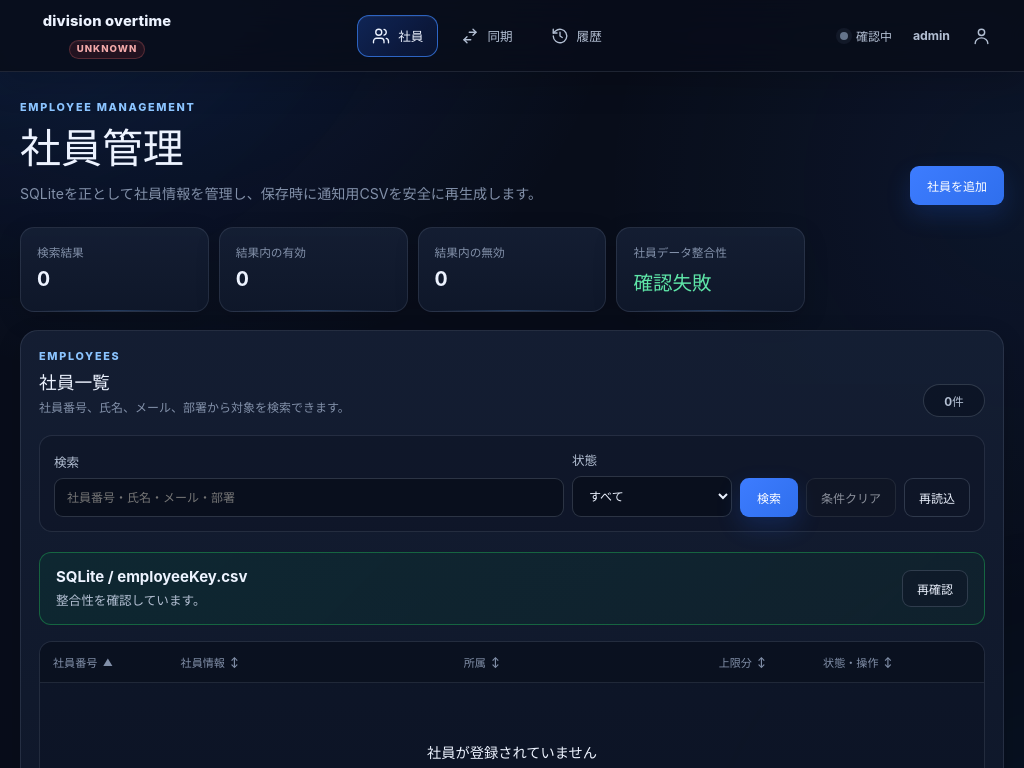
App › 社員一覧の検索条件を表示し、まとめて解除する
The image size is (1024, 768).
Expected: the heading "社員一覧" is shown, [39,372,110,393]
Type "開発" into the field labelled "検索" at (309, 497), box [54,478,564,517]
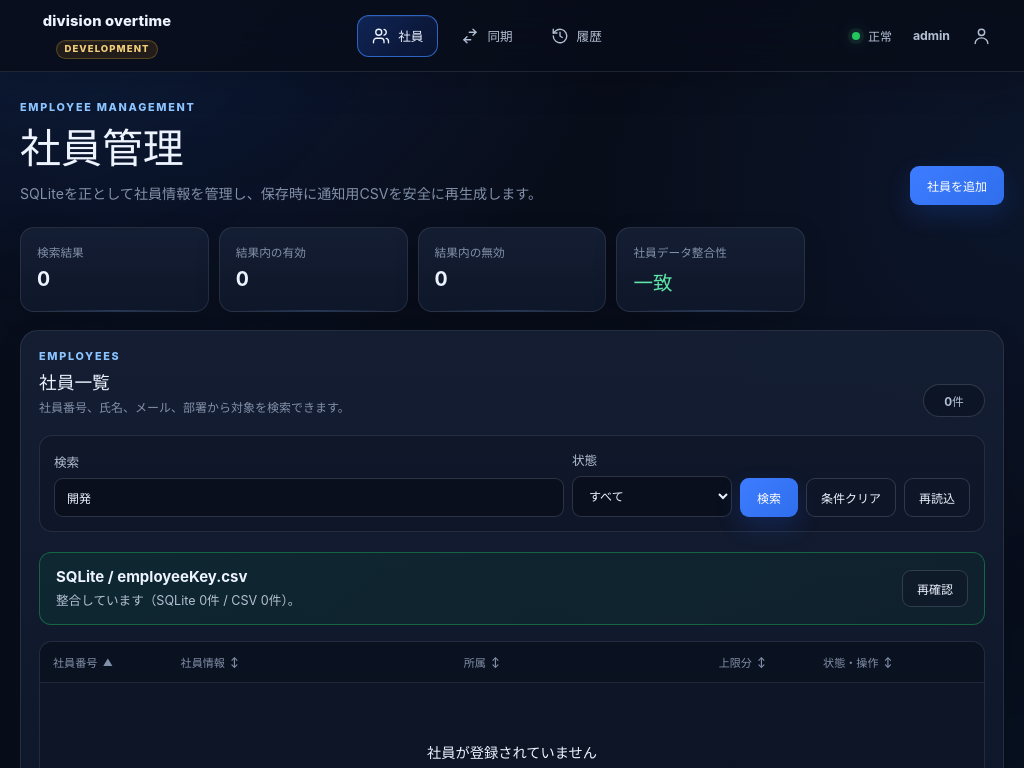
Select "無効" in the dropdown labelled "状態" at (652, 496), box [572,476,732,517]
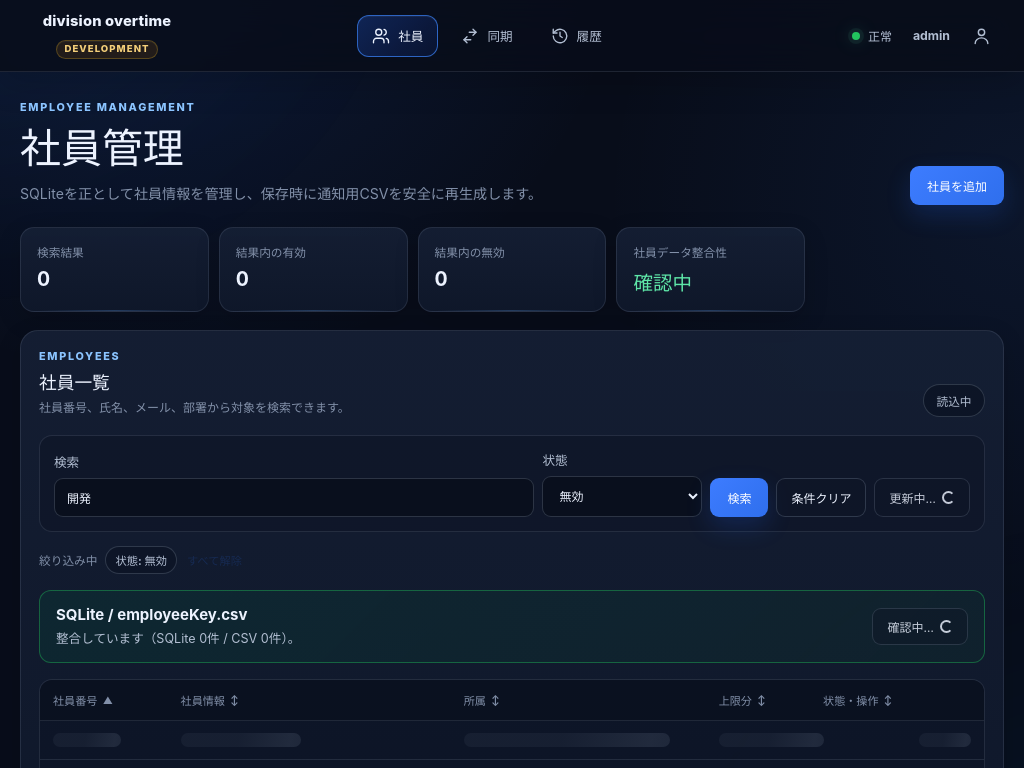
Click the button "検索" at (739, 497), box [710,478,768,517]
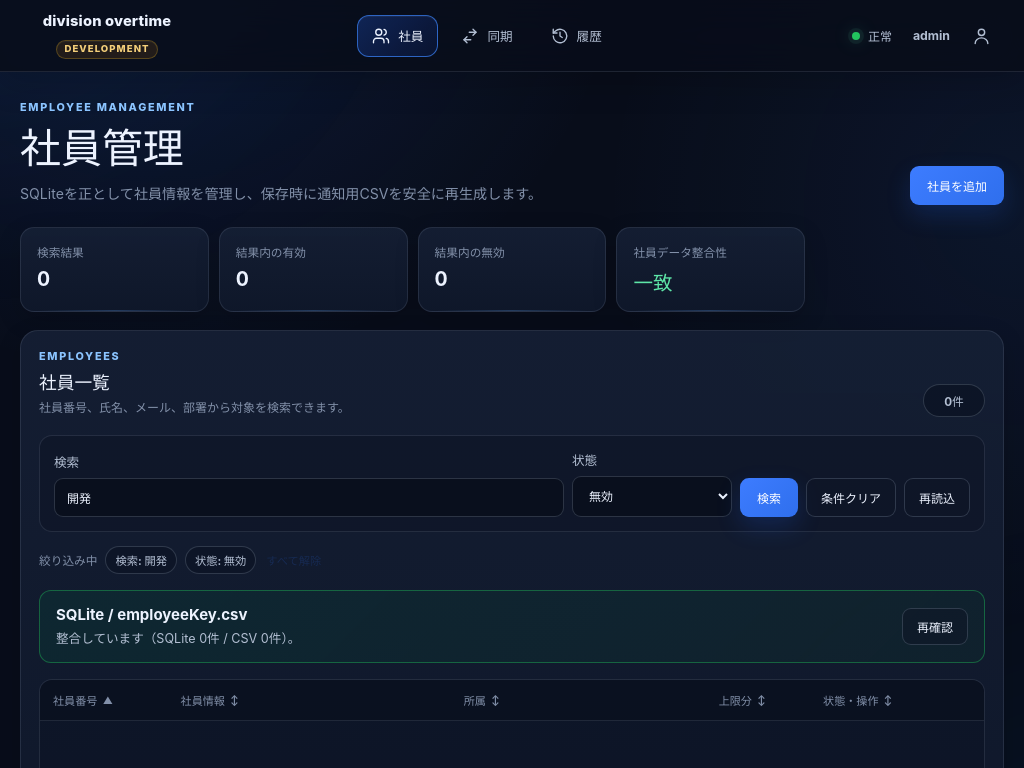
Now the text "状態: 無効" is shown, box [185,546,256,574]
Now the text "検索: 開発" is shown, box [106,546,177,574]
Click the button "すべて解除" at (294, 560), box [264,548,323,572]
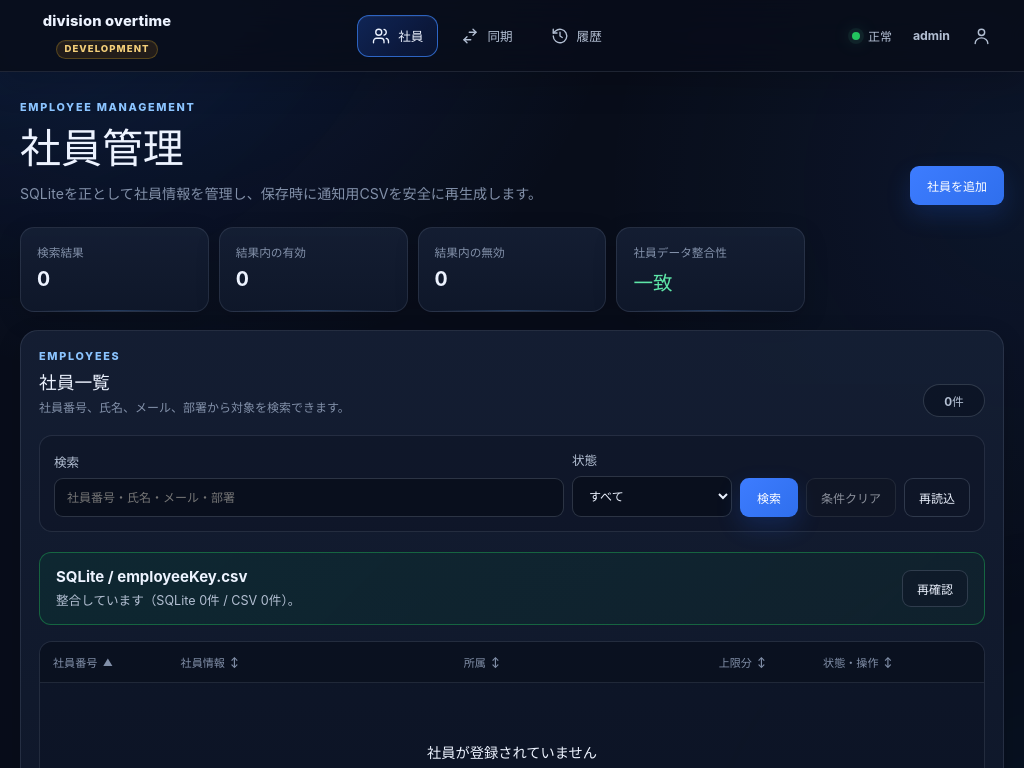
Now the text "検索: 開発" is gone
Now the field labelled "検索" is empty, box [54,478,564,517]
